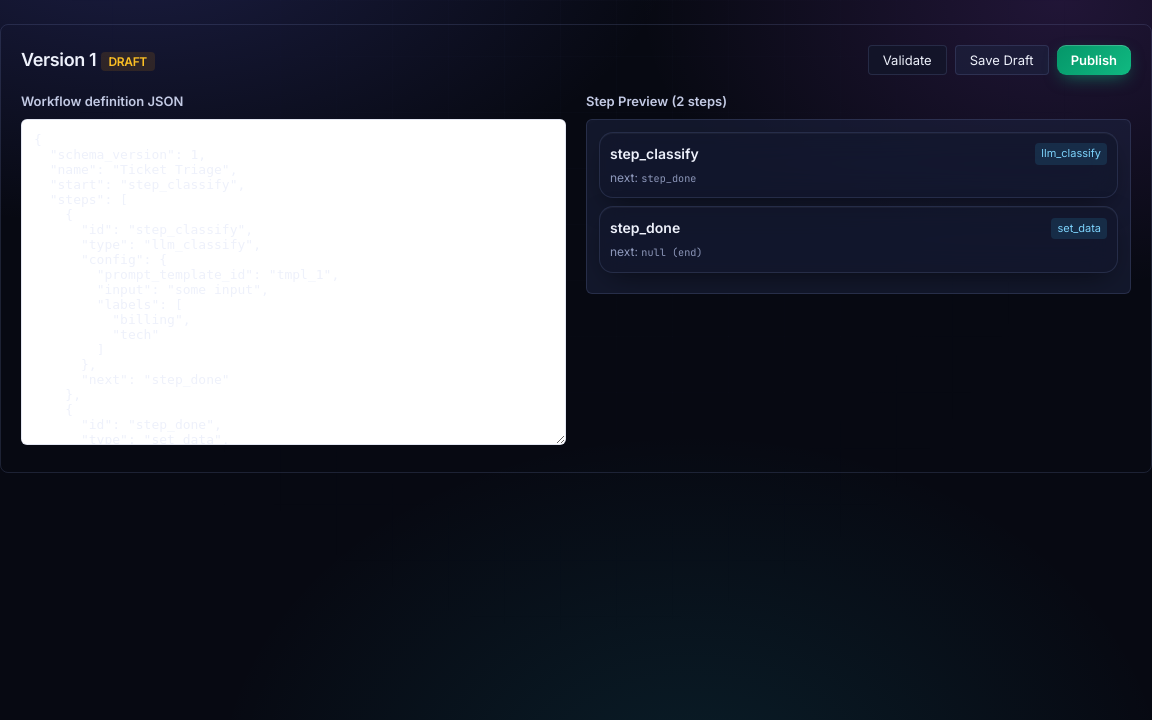
Test: Workflow Version Editor Suite (P3-F01 to P3-F04) › P3-F02: shows validation issues from /validate endpoint in accessible alert list
Click the button with test id "btn-validate": (907, 60) top-left (868, 45), bottom-right (947, 75)
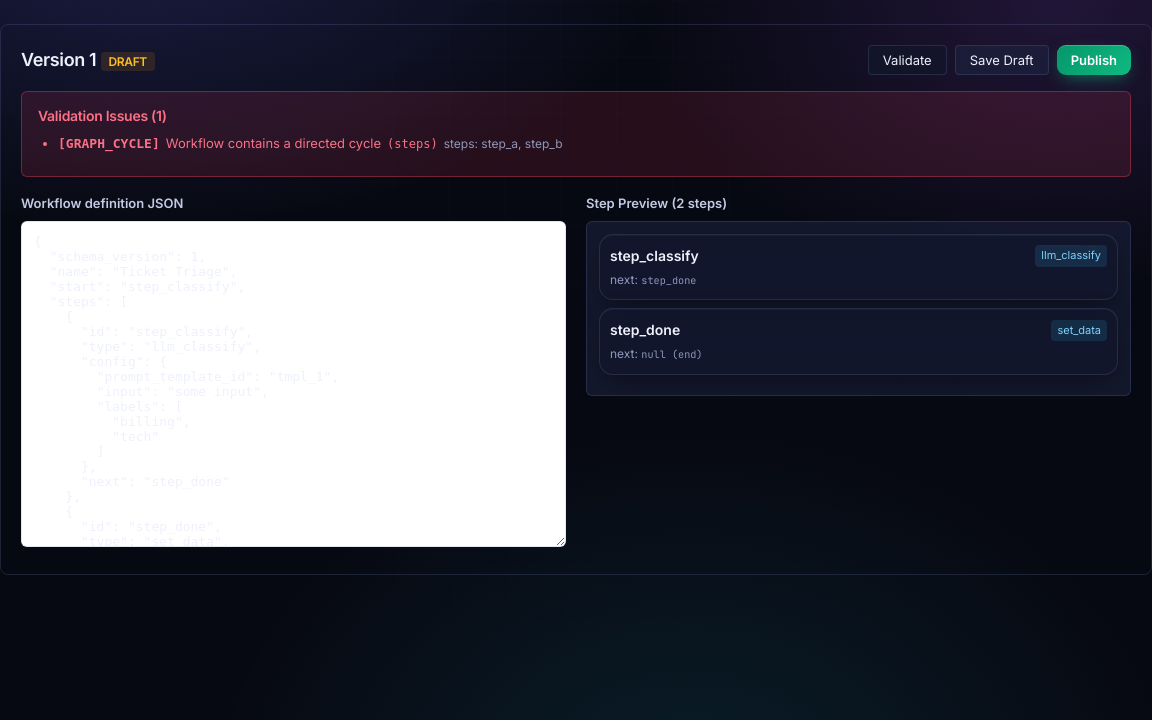
Expected: the message "[GRAPH_CYCLE]Workflow contains a directed cycle(steps)steps: step_a, step_b" is shown, top-left (58, 135), bottom-right (563, 151)
Expected: the text "[GRAPH_CYCLE]" is shown, top-left (58, 136), bottom-right (160, 151)
Expected: the text "Workflow contains a directed cycle" is shown, top-left (166, 135), bottom-right (381, 151)
